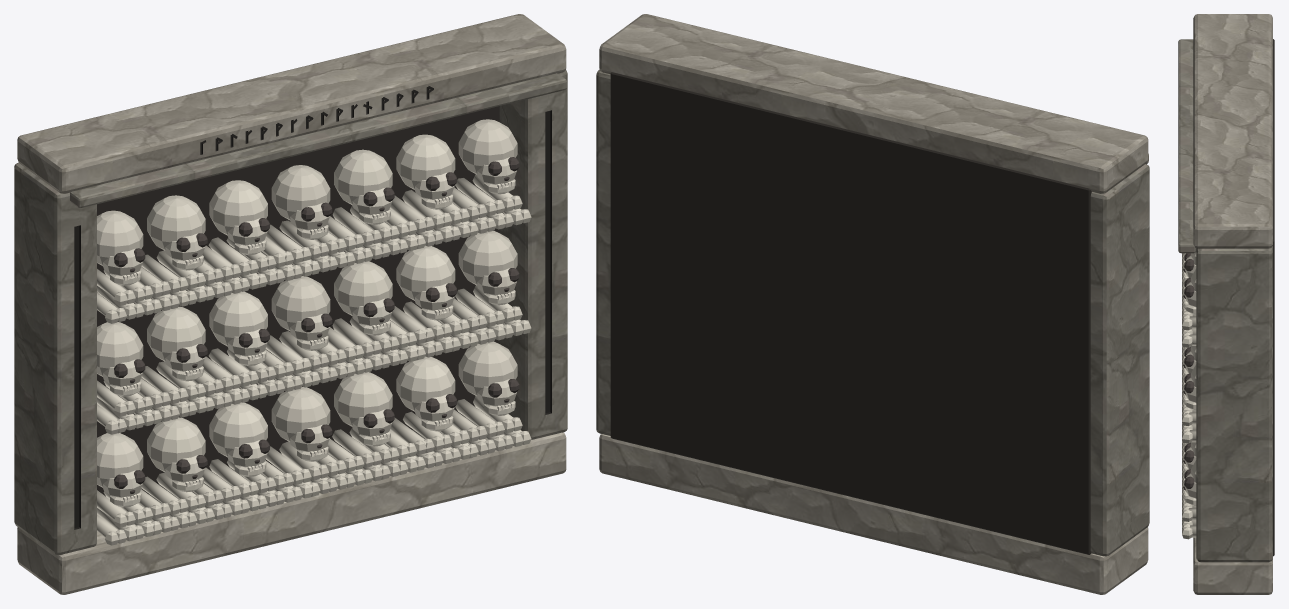
File: qb_ossuary_wall.glb
3 renders of one model, left to right at view 1: azimuth 30°, elevation 25°; view 2: azimuth 150°, elevation 25°; view 3: azimuth 270°, elevation 25°, orthographic. The views are drawn at different scales.
Visible parts, largest first — view 1: model; view 2: model; view 3: model.
Boxes of the visible parts, x1,y1,x2,y2 form: model: (14,14,567,594); model: (596,14,1149,594); model: (1178,14,1274,594).
Bounding box in the file's own units: 1.7 × 1.36 × 0.32.
11 materials, 3 textured.
